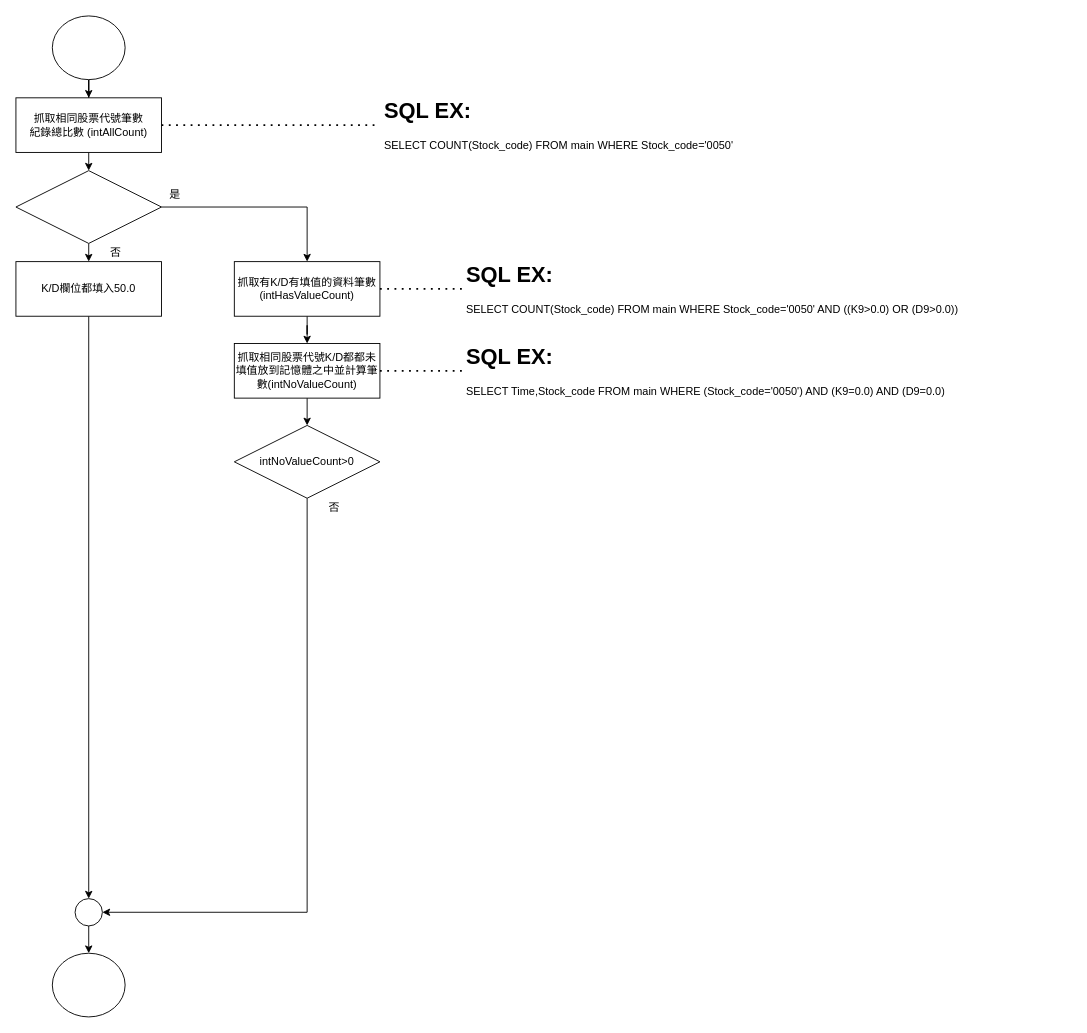
This 1087x1033 diagram has some shape labels left out. Here are the shapes that lost their labels. From the top down, the box of each, then its label:
(51, 15, 125, 80): start
(15, 170, 162, 243): intAllCount>8
(51, 952, 125, 1017): End
